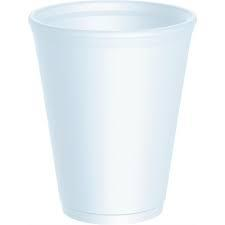Plastic cup: (30, 6, 199, 225)
